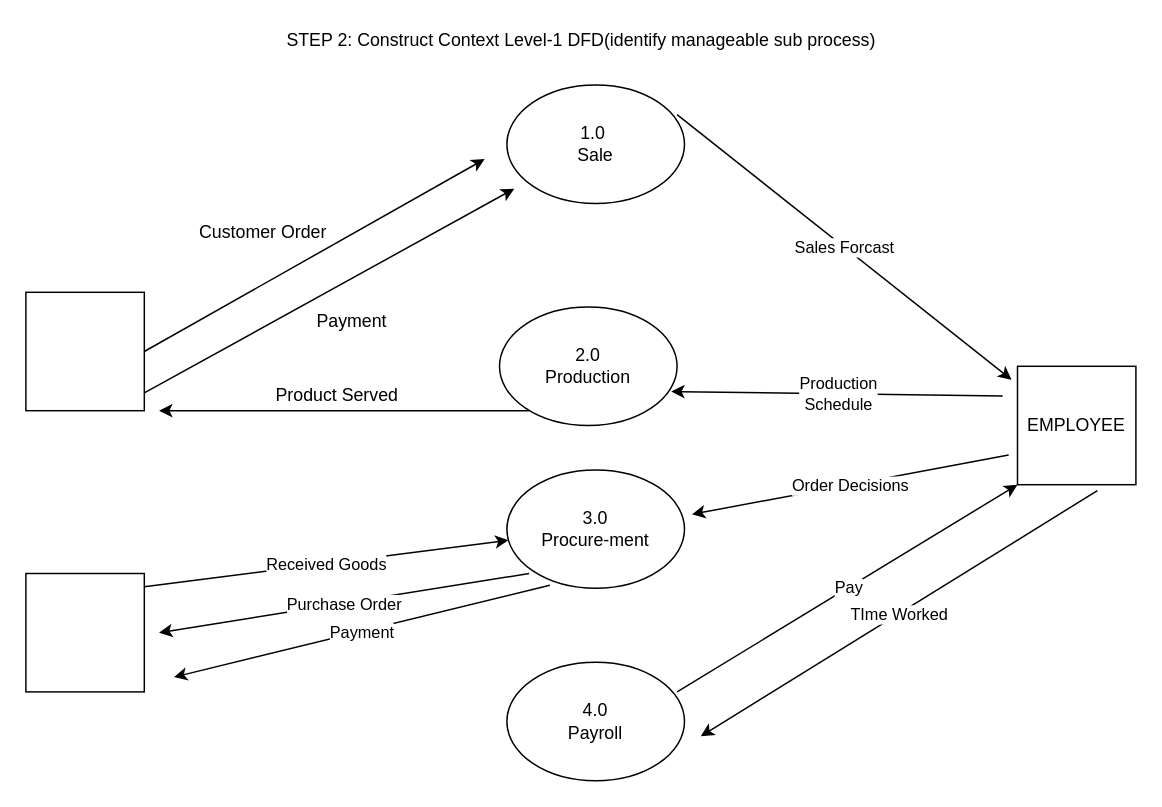
The diagram is 1162 pixels wide and 807 high, and some of its shapes have lost their labels. The shapes that lost their labels are listed below. From the top down, each one's box as (x1, y1, x2, y2) in pixels, then its label:
(24, 291, 144, 411): CUSTOMER
(24, 572, 144, 692): VENDOR
